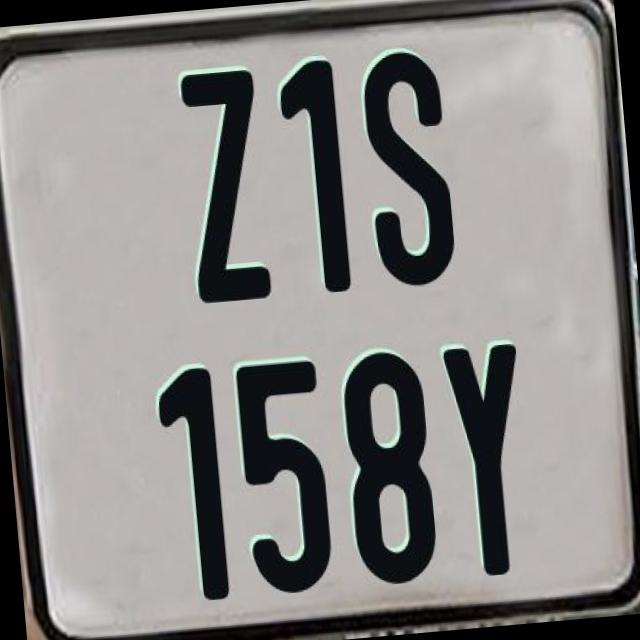1: (272, 55, 355, 300), (151, 364, 233, 602)
5: (230, 356, 333, 602)
8: (336, 344, 443, 592)
S: (359, 43, 466, 294)
Y: (439, 338, 538, 578)
Z: (180, 68, 280, 305)
